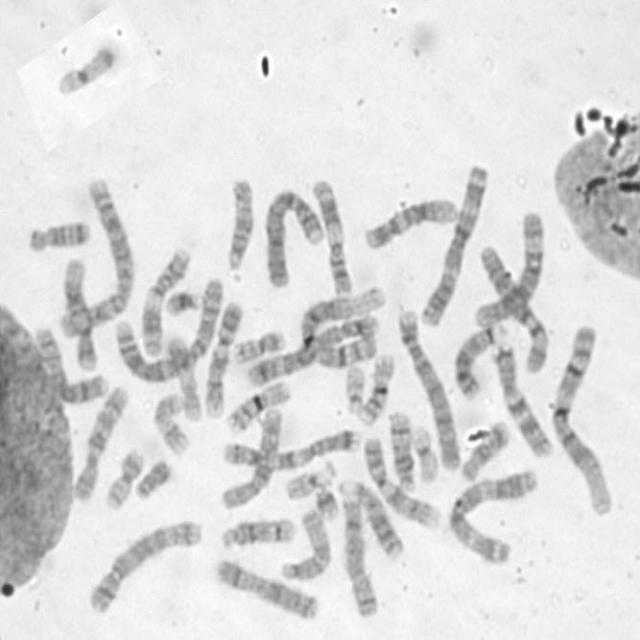A1: (547, 319, 618, 519), (294, 280, 386, 370)
A2: (54, 172, 137, 340), (112, 269, 228, 383)
A3: (416, 157, 492, 328), (442, 461, 540, 566)
B4: (393, 303, 462, 473), (260, 183, 324, 290)
B5: (82, 513, 204, 617), (243, 309, 381, 388)
C10: (68, 380, 131, 503), (217, 402, 286, 511)
C11: (136, 243, 193, 358), (306, 170, 354, 298)
C12: (359, 191, 460, 251), (59, 251, 101, 373)
C6: (476, 238, 551, 375), (469, 203, 547, 328)
C7: (488, 336, 556, 459), (216, 424, 362, 471)
C8: (31, 321, 110, 404), (336, 484, 381, 620)
C9: (361, 432, 444, 531), (198, 294, 246, 420)
D13: (333, 473, 405, 561), (449, 316, 510, 401)
D14: (216, 512, 297, 552), (384, 405, 417, 493)
D15: (275, 502, 332, 583), (222, 170, 257, 274)
E16: (222, 375, 292, 433), (355, 347, 396, 427)
E17: (162, 329, 204, 422), (149, 387, 194, 457)
E18: (454, 415, 510, 483), (23, 214, 93, 254)
F19: (52, 38, 119, 98), (408, 420, 439, 484)
F20: (99, 441, 147, 512), (228, 323, 286, 366)
G21: (162, 283, 206, 318), (310, 480, 342, 522)
G22: (281, 455, 338, 501), (341, 358, 368, 417)
X: (211, 552, 322, 622)
Y: (130, 452, 172, 501)
